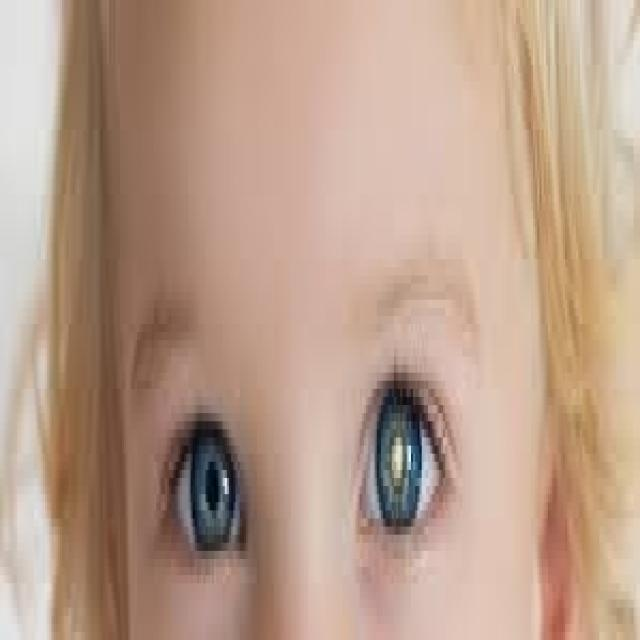reflexo-alterado: (141, 390, 254, 598), (343, 353, 464, 546)
